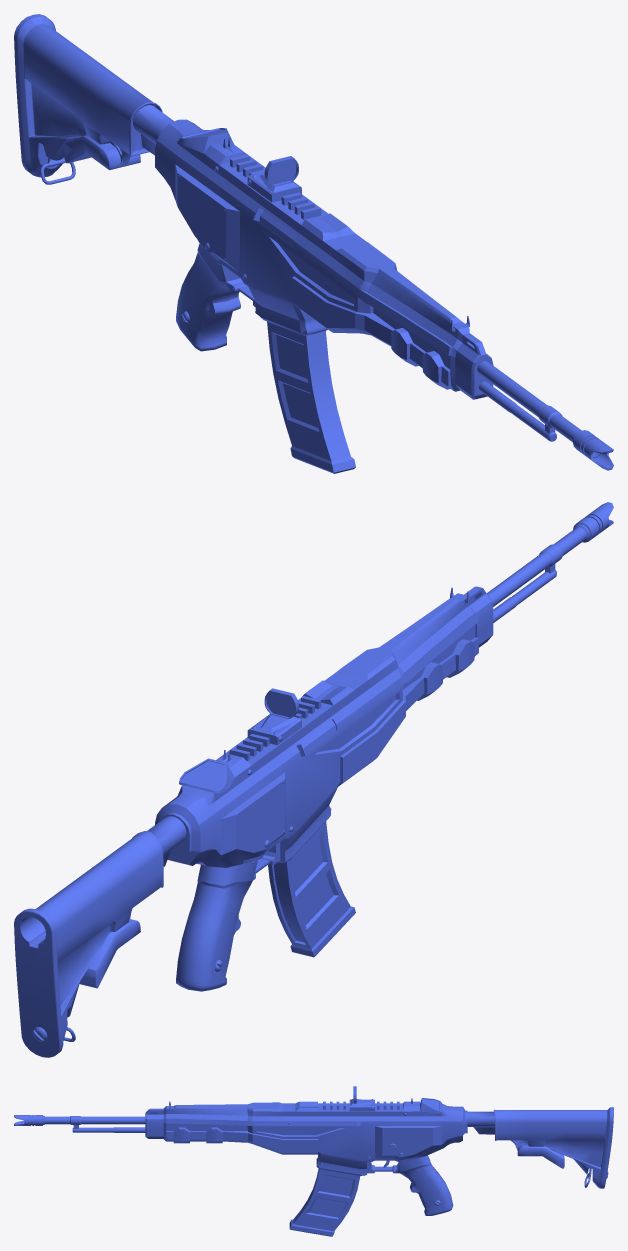
Rendered from prop_wep_rifle.FBX.
The picture shows the model from 3 angles, top to bottom: view 1: azimuth 30°, elevation 25°; view 2: azimuth 150°, elevation 25°; view 3: azimuth 270°, elevation 25°; orthographic projection. The views are drawn at different scales.
Parts seen in each view (by area): view 1: prop_wep_M44x001; view 2: prop_wep_M44x001; view 3: prop_wep_M44x001.
Part boxes in pixels (<box>): prop_wep_M44x001: <box>14,14,613,473</box>; prop_wep_M44x001: <box>14,502,613,1057</box>; prop_wep_M44x001: <box>14,1086,613,1236</box>.
Bounding box in the file's own units: 0.0696 × 0.2953 × 1.1.
